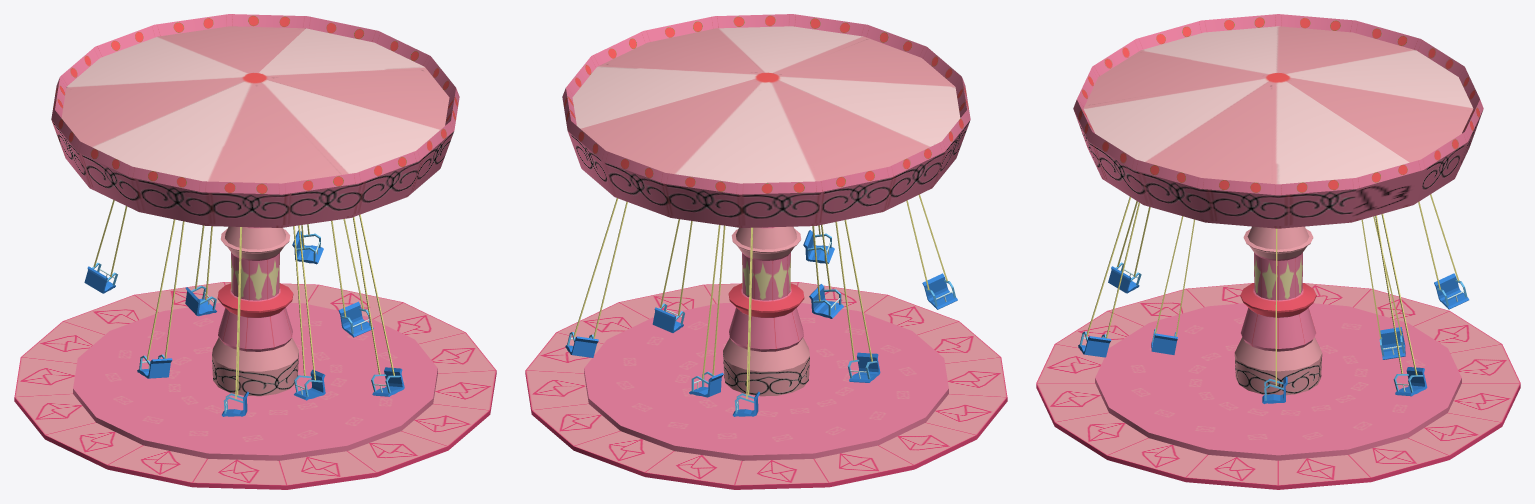
File: Swing_ChairAll.fbx
3 renders of one model, left to right at view 1: azimuth 30°, elevation 25°; view 2: azimuth 150°, elevation 25°; view 3: azimuth 270°, elevation 25°, orthographic.
Parts seen in each view (by area): view 1: Line001, Line031; view 2: Line001, Line031; view 3: Line001, Line031.
Boxes of the visible parts, left/top/right/bottom form: Line001: left=14, top=14, right=496, bottom=489; Line031: left=84, top=200, right=404, bottom=416; Line001: left=525, top=14, right=1007, bottom=489; Line031: left=565, top=194, right=957, bottom=416; Line001: left=1036, top=14, right=1520, bottom=489; Line031: left=1078, top=194, right=1469, bottom=403.
Bounding box in the file's own units: 1256 × 891 × 1256.
2 materials, 2 textured.
